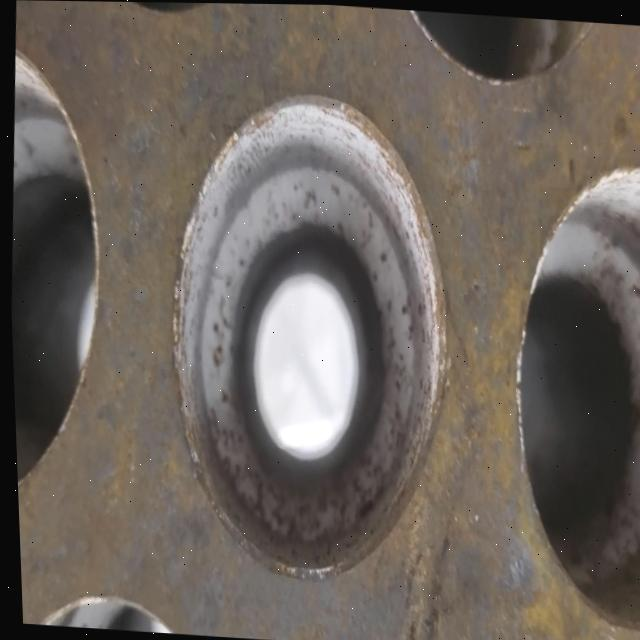Hole: (152, 90, 467, 592), (491, 152, 640, 640), (0, 0, 118, 562), (381, 7, 608, 93), (17, 590, 196, 634), (81, 1, 259, 21)
